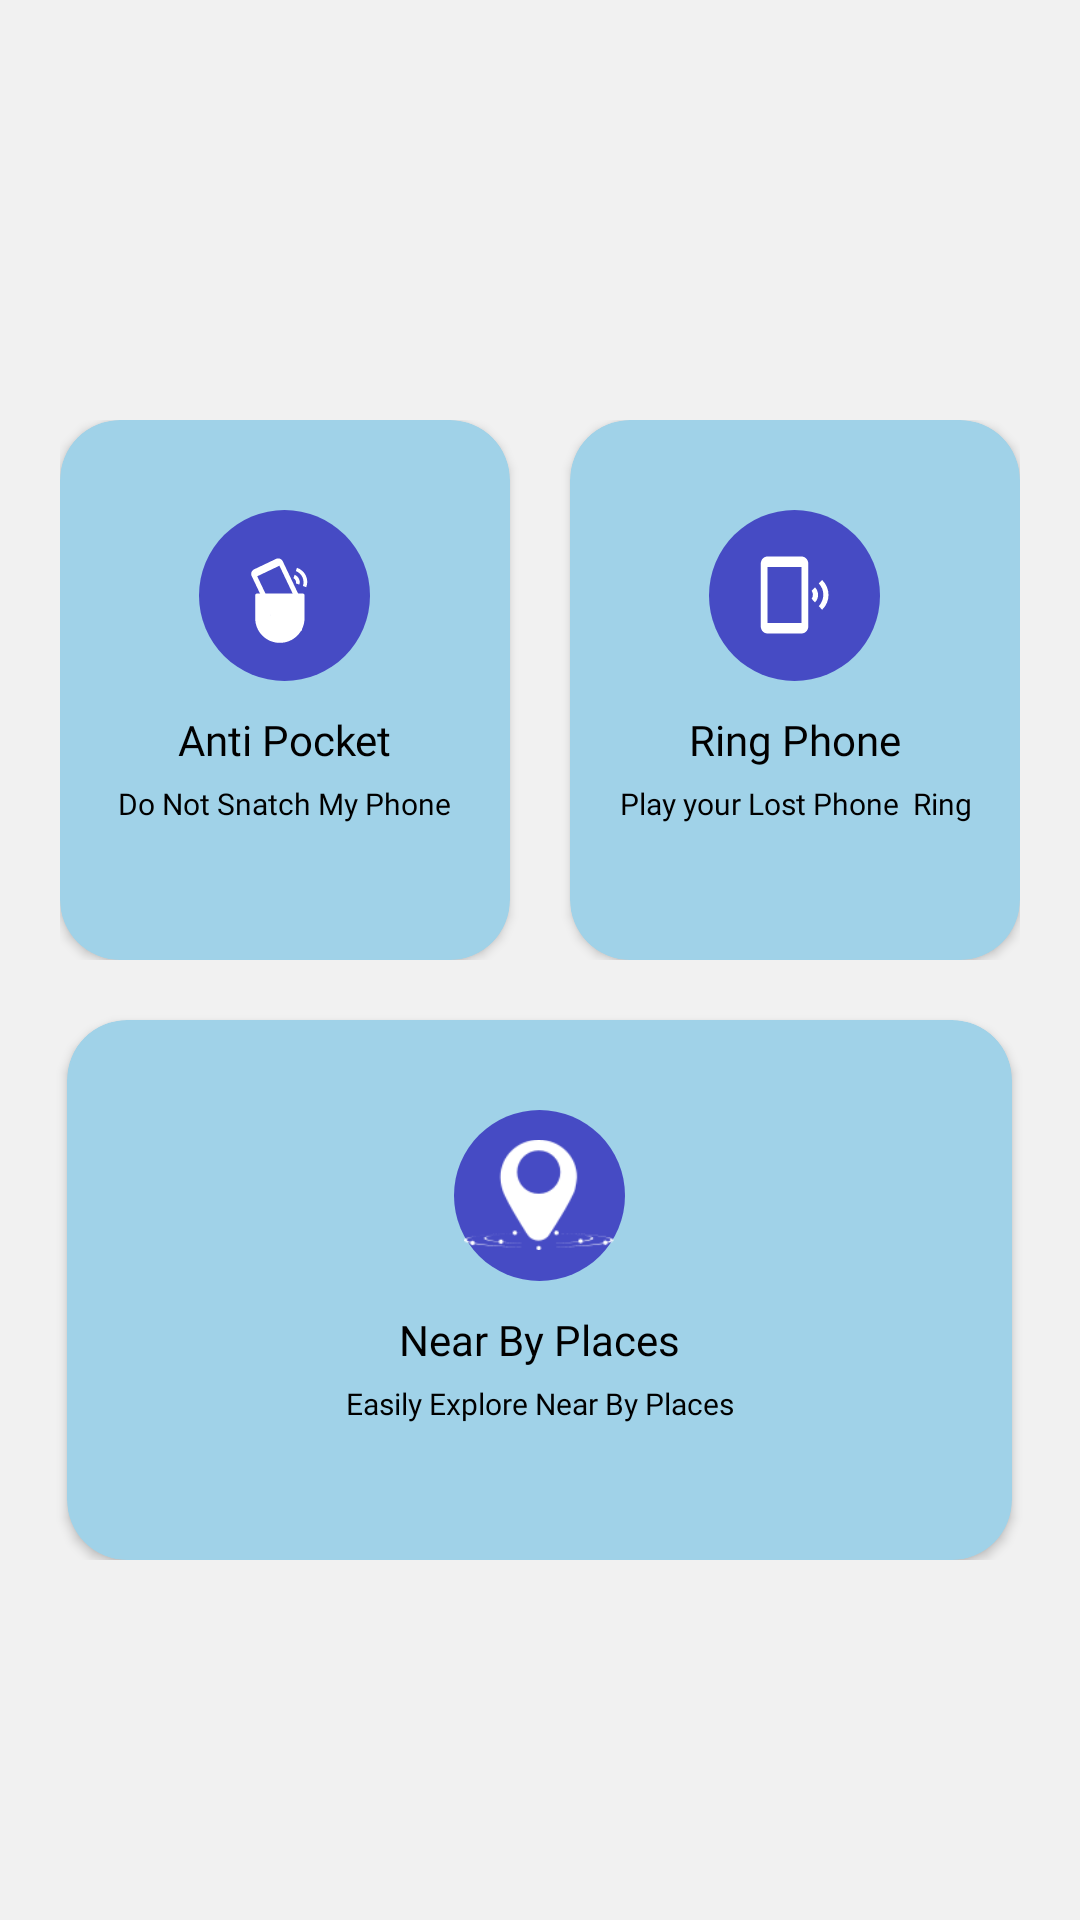

Named icons in this screenshot (1080x1920) and their centers, (x=x, y=y):
near by pleases: (x=539, y=1195)
